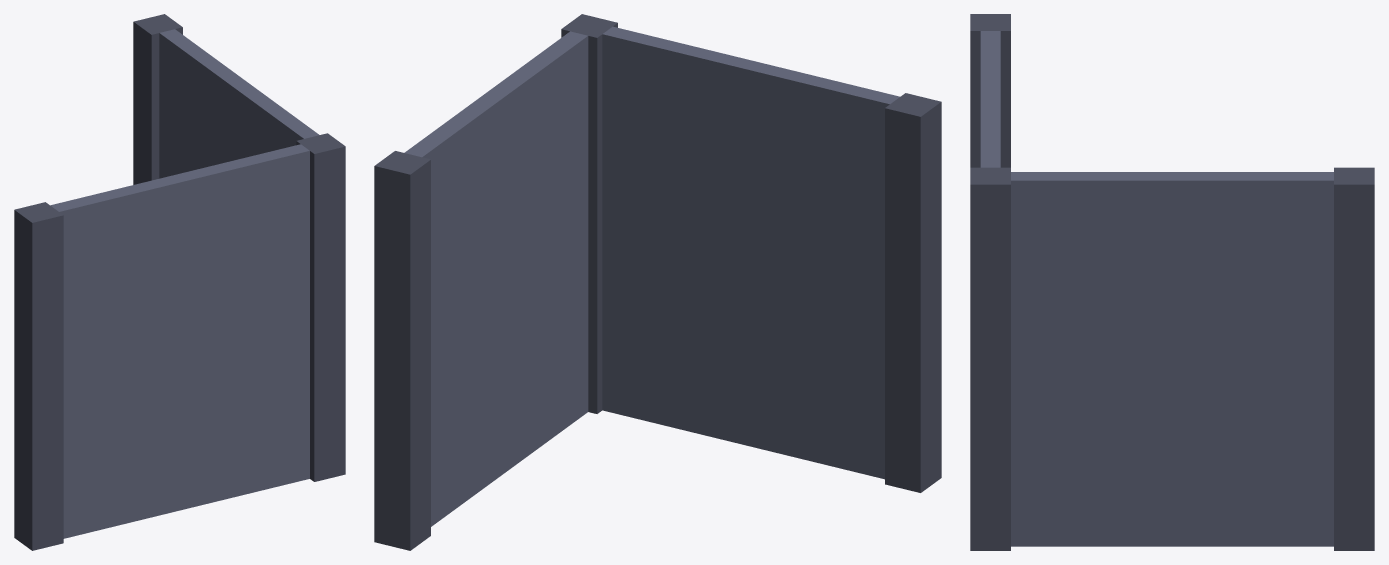
The model's file is wall-wood-corner.glb.
3 views of the same model, side by side, from view 1: azimuth 30°, elevation 25°; view 2: azimuth 150°, elevation 25°; view 3: azimuth 270°, elevation 25° (orthographic). The views are drawn at different scales.
Visible parts, largest first — view 1: wall-wood-corner; view 2: wall-wood-corner; view 3: wall-wood-corner.
Boxes of the visible parts, left/top/right/bottom form: wall-wood-corner: left=14, top=14, right=345, bottom=550; wall-wood-corner: left=374, top=14, right=941, bottom=550; wall-wood-corner: left=970, top=14, right=1374, bottom=550.
Bounding box in the file's own units: 1 × 1 × 1.
Materials: 1 (1 with a texture image).
